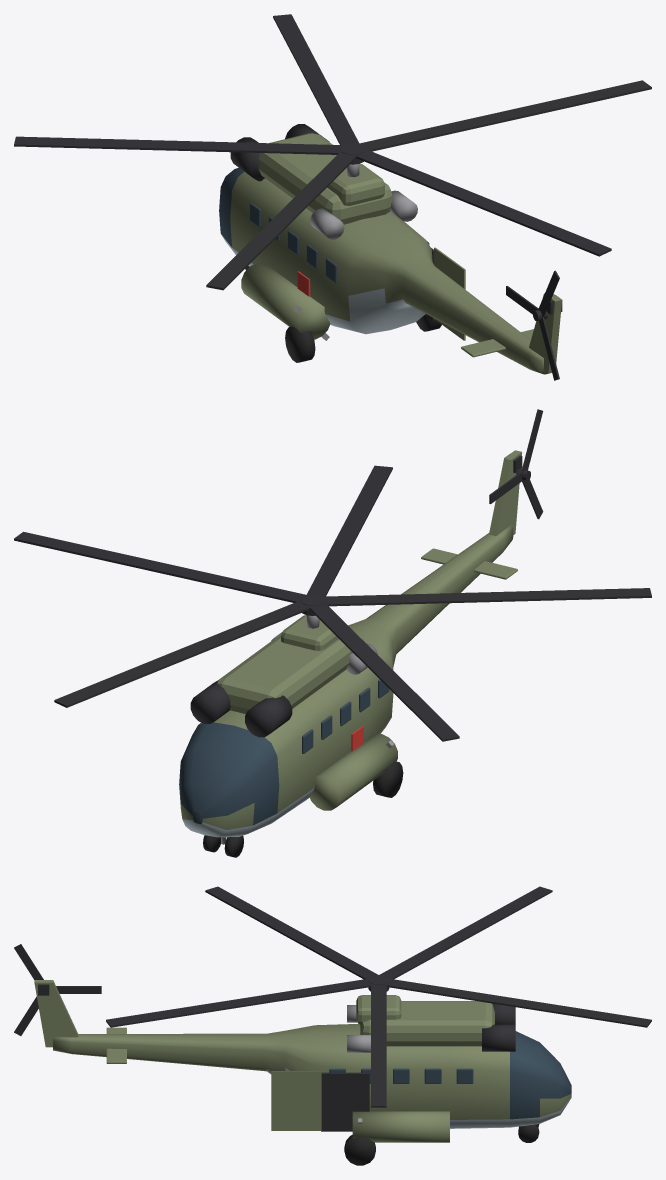
Rendered from helicopter.glb.
The picture shows the model from 3 angles, top to bottom: view 1: azimuth 30°, elevation 25°; view 2: azimuth 150°, elevation 25°; view 3: azimuth 270°, elevation 25°; orthographic projection. The views are drawn at different scales.
Parts seen in each view (by area): view 1: Hull, MainRotor, TailRotor; view 2: Hull, MainRotor, TailRotor; view 3: Hull, MainRotor, TailRotor.
Part boxes in pixels (x1=…): Hull: x1=219, y1=124, x2=562, y2=374; MainRotor: x1=14, y1=14, x2=651, y2=290; TailRotor: x1=506, y1=270, x2=559, y2=380; Hull: x1=179, y1=450, x2=522, y2=857; MainRotor: x1=14, y1=465, x2=651, y2=741; TailRotor: x1=489, y1=409, x2=543, y2=519; Hull: x1=34, y1=980, x2=571, y2=1165; MainRotor: x1=106, y1=886, x2=651, y2=1107; TailRotor: x1=14, y1=944, x2=101, y2=1035.
Size of the model in its own units: 13.87 by 5.55 by 17.04.
